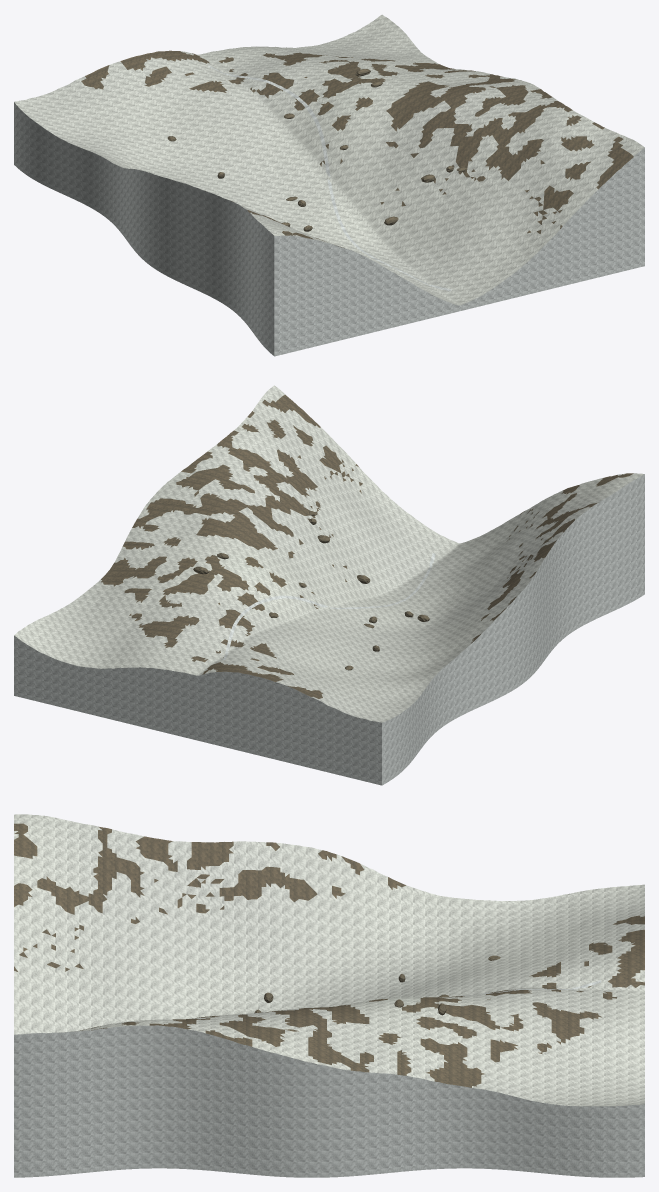
Rendered from ch08_jiajin_snowpass.glb.
3 renders of one model, top to bottom at view 1: azimuth 30°, elevation 25°; view 2: azimuth 150°, elevation 25°; view 3: azimuth 270°, elevation 25°, orthographic. The views are drawn at different scales.
Visible parts, largest first — view 1: terrain__eroded_landscape, terrain_boundary__closed_earth_boundary, ridge_march_path__ridge_march_path, exposed_rock; view 2: terrain__eroded_landscape, terrain_boundary__closed_earth_boundary, ridge_march_path__ridge_march_path, exposed_rock; view 3: terrain__eroded_landscape, terrain_boundary__closed_earth_boundary.
Part boxes in pixels (left/top/right/bottom): terrain__eroded_landscape: left=14, top=14, right=644, bottom=305; terrain_boundary__closed_earth_boundary: left=14, top=102, right=644, bottom=356; ridge_march_path__ridge_march_path: left=208, top=65, right=451, bottom=291; exposed_rock: left=167, top=69, right=466, bottom=231; terrain__eroded_landscape: left=14, top=385, right=644, bottom=722; terrain_boundary__closed_earth_boundary: left=14, top=474, right=644, bottom=785; ridge_march_path__ridge_march_path: left=222, top=553, right=435, bottom=660; exposed_rock: left=193, top=511, right=429, bottom=670; terrain__eroded_landscape: left=14, top=814, right=644, bottom=1106; terrain_boundary__closed_earth_boundary: left=14, top=1025, right=644, bottom=1177.
Size of the model in its own units: 188 by 58.6 by 230.
Materials: 2 (2 with a texture image).
